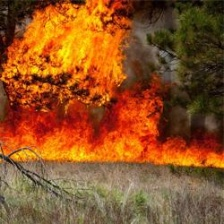fire: (1, 2, 224, 171)
